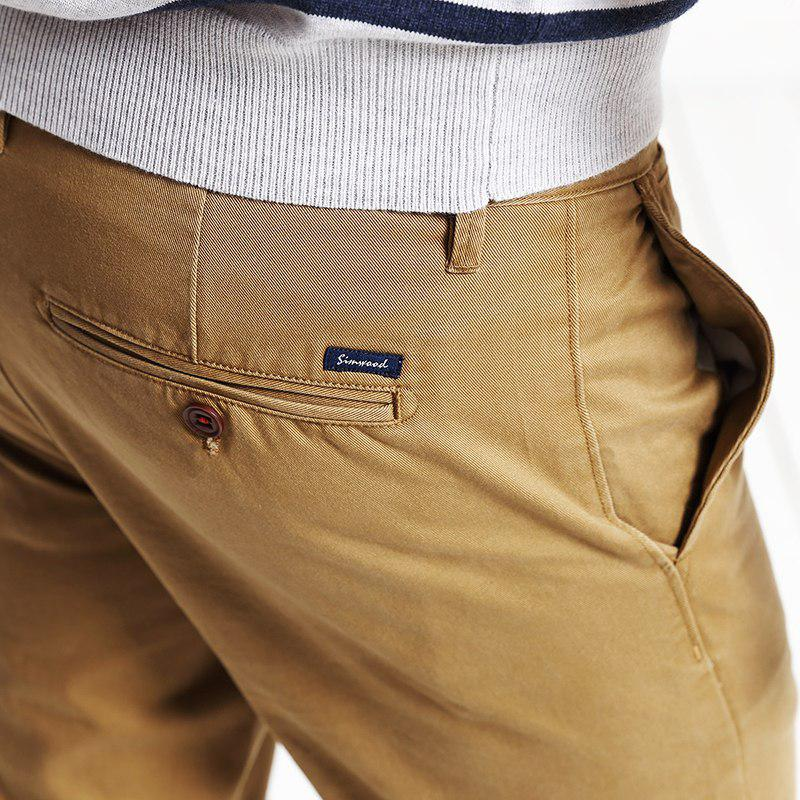pants: (3, 108, 797, 800)
